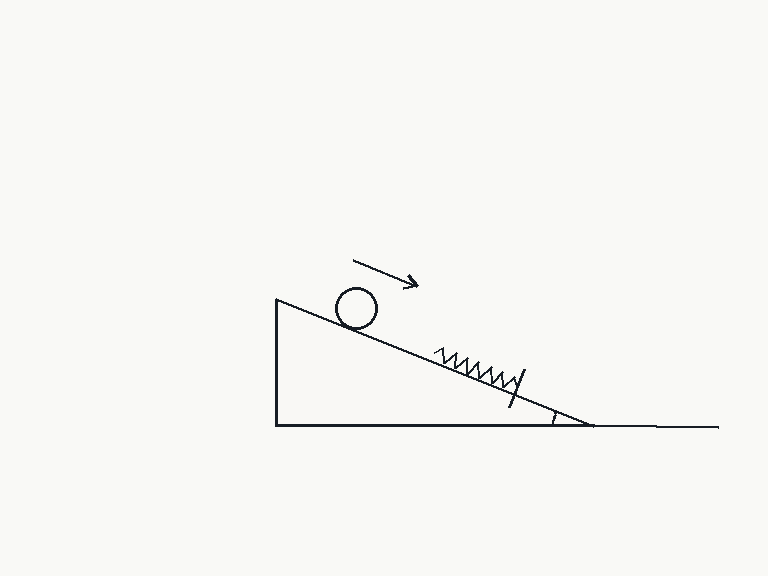ball: (333, 285, 379, 331)
ramp: (274, 296, 595, 428)
spring: (433, 346, 519, 389)
